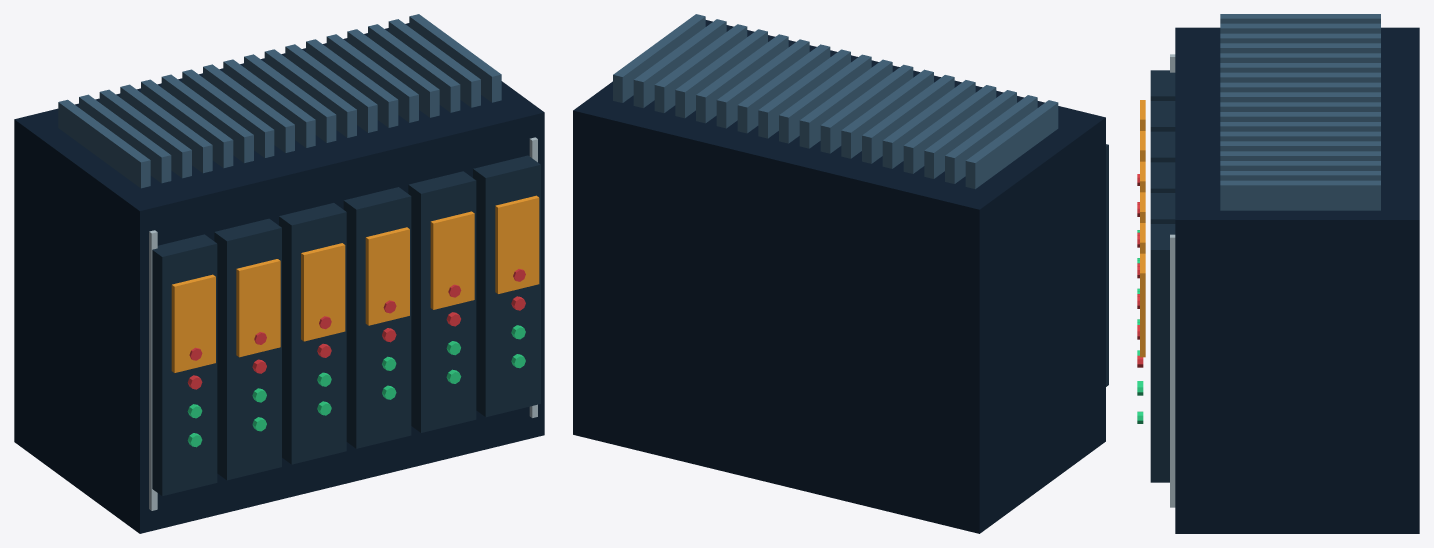
The model's file is 34_L72_MultiZoneHeaterPowerBank.fbx.
3 views of the same model, side by side, from view 1: azimuth 30°, elevation 25°; view 2: azimuth 150°, elevation 25°; view 3: azimuth 270°, elevation 25° (orthographic). The views are drawn at different scales.
Parts seen in each view (by area): view 1: MultiZoneHeaterPowerBank; view 2: MultiZoneHeaterPowerBank; view 3: MultiZoneHeaterPowerBank.
Part boxes in pixels (x1=…): MultiZoneHeaterPowerBank: x1=14, y1=14, x2=544, y2=533; MultiZoneHeaterPowerBank: x1=573, y1=14, x2=1108, y2=533; MultiZoneHeaterPowerBank: x1=1137, y1=14, x2=1419, y2=533.
Size of the model in its own units: 147 by 121 by 91.3.
